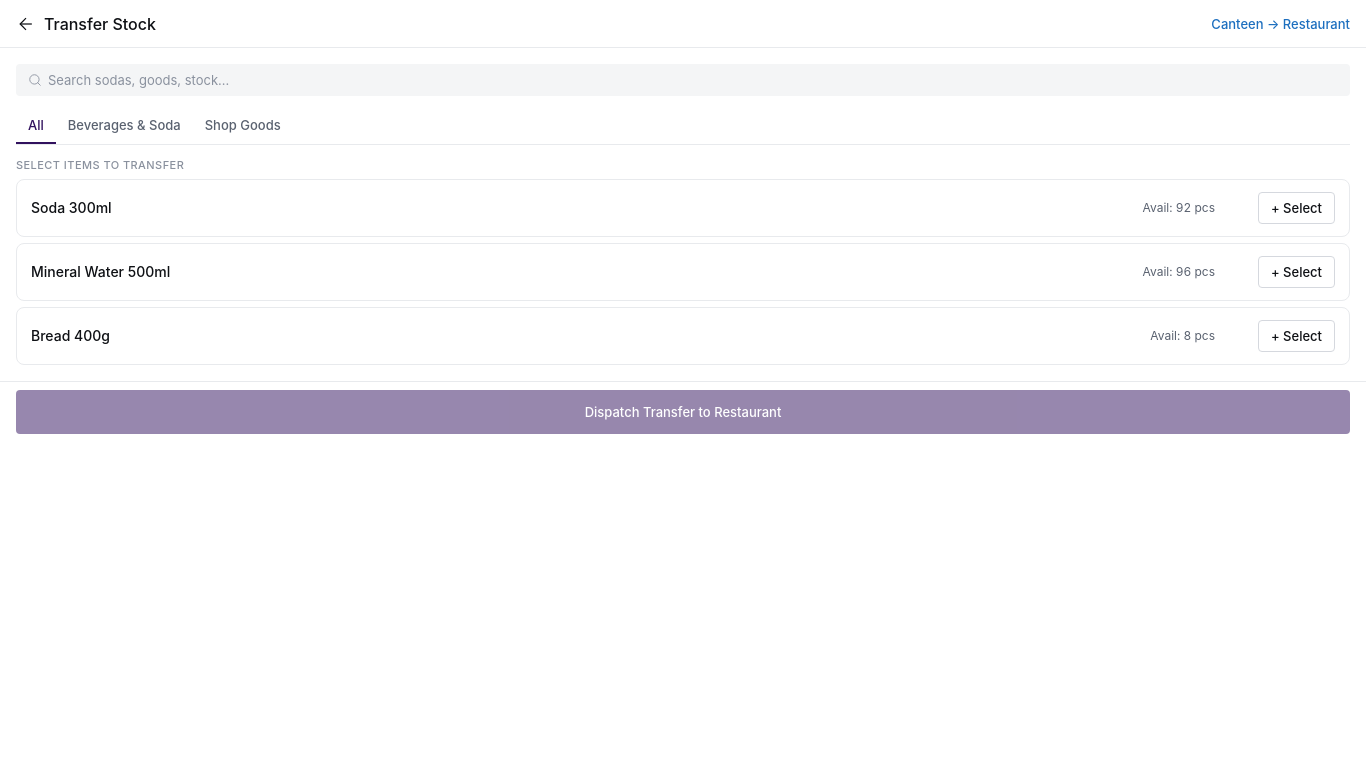
Canteen — Transfer Dispatch flow (Option-A picker) › populated: 2 rows → impact banner sums → ONE transferBatch POST { fromLocationId: canteen, toLocationId: restaurant } (auto-destination, ADR-67)
Expected: the text "Canteen → Restaurant" is shown, [1211,16,1350,32]
Expected: the element named "Soda 300ml," is shown, [16,179,1350,237]
Step 1. Click the tab "Beverages & Soda" → (124, 126), box [56,108,193,144]
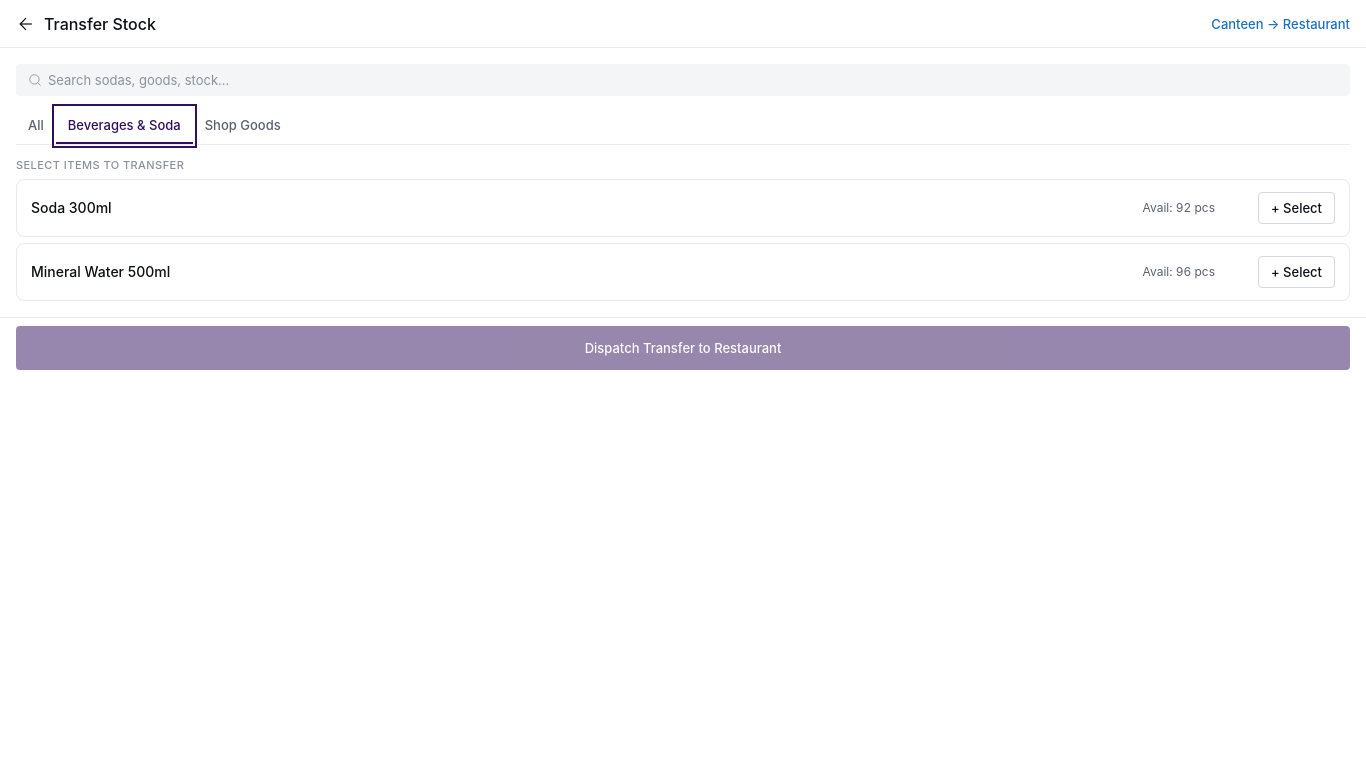
Step 2. Click the button "+ Select" next to "Avail: 96 pcs" → (1296, 272), box [1258,256,1335,288]
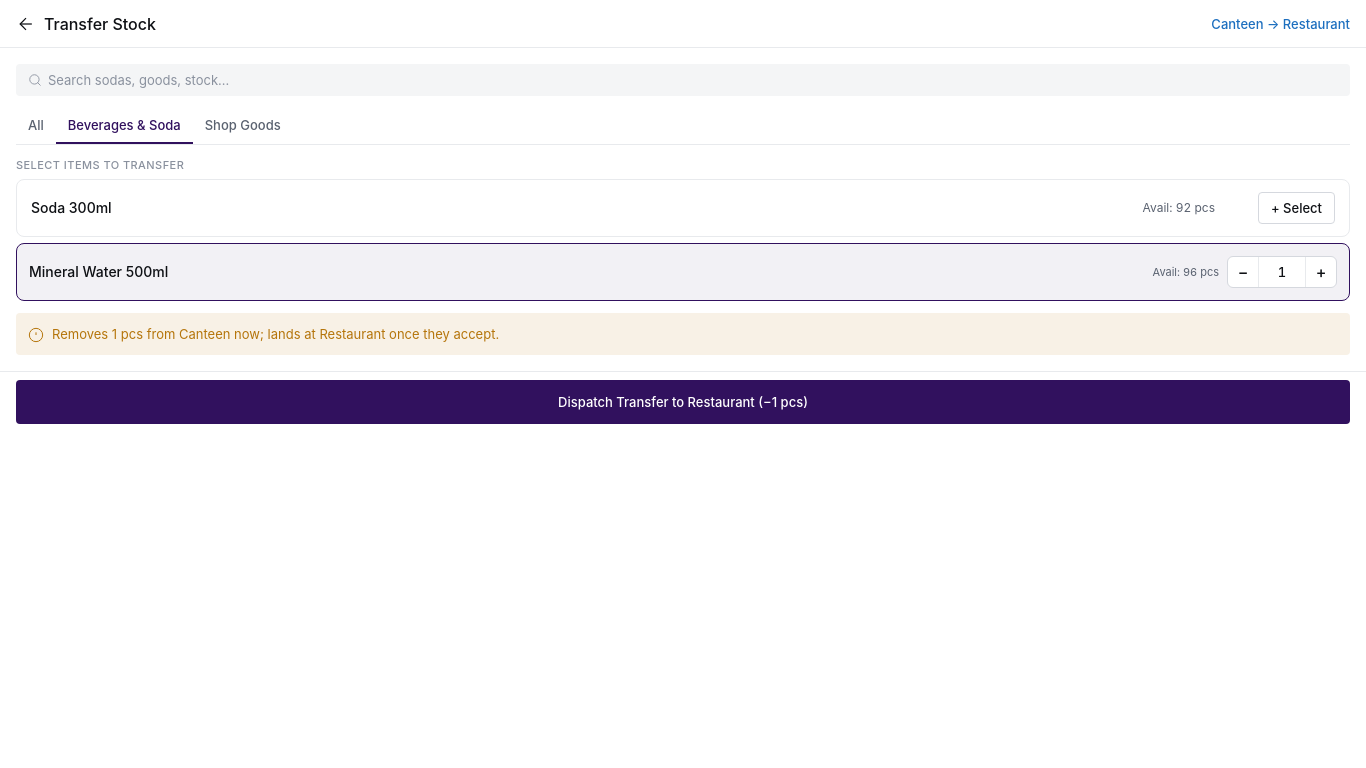
Step 3. Replace the text in the number field with "24" → (1282, 272), box [1274,264,1290,280]
Step 4. Press Tab
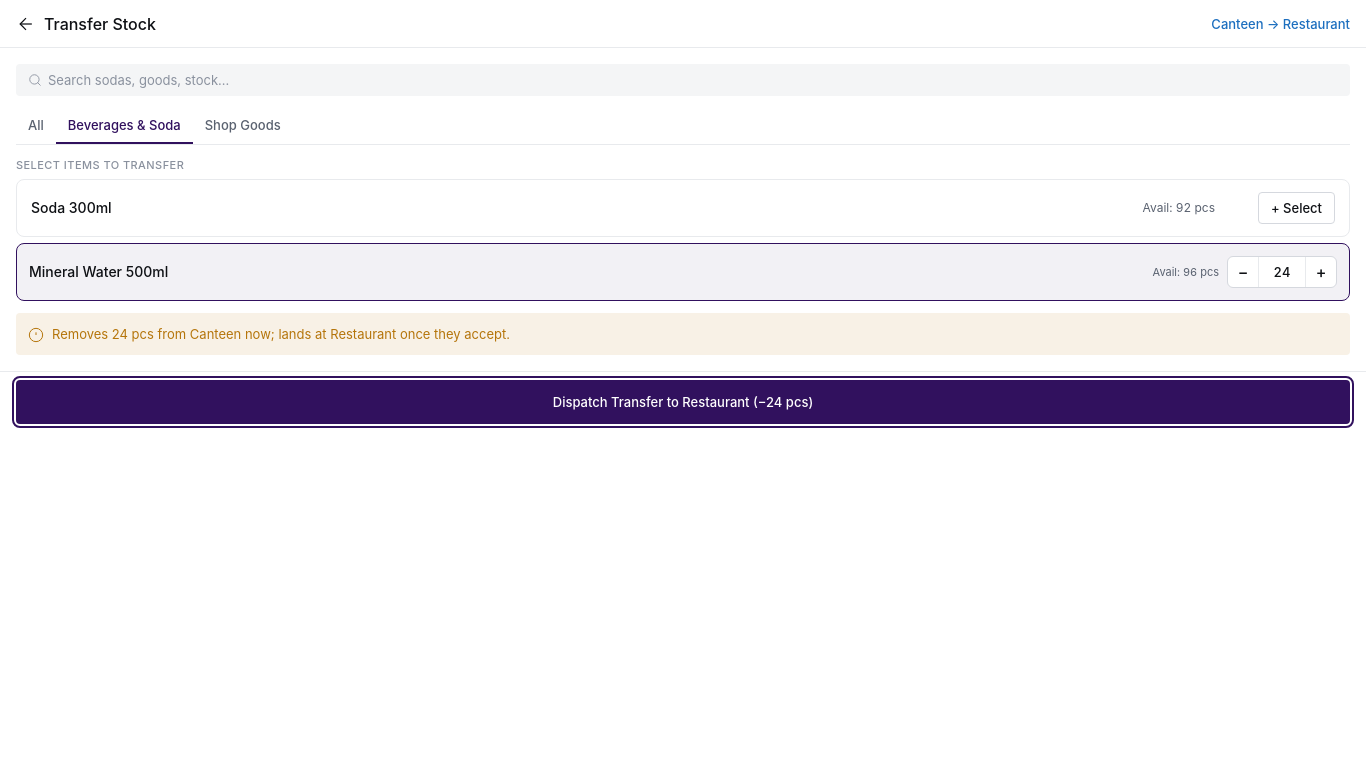
Step 5. Click the button "+ Select" → (1296, 208), box [1258,192,1335,224]
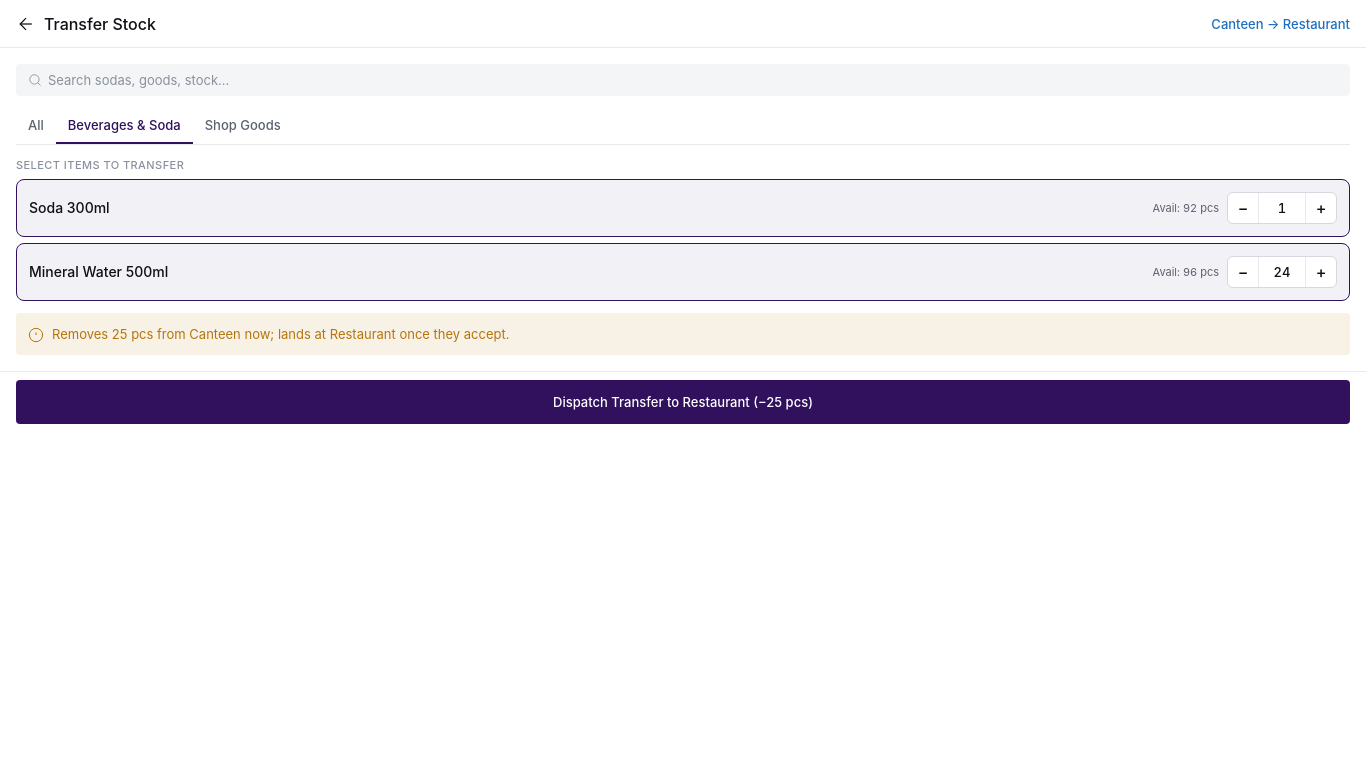
Step 6. Replace the text in the number field named "Soda 300ml quantity" with "12" → (1282, 208), box [1274,200,1290,216]
Step 7. Press Tab
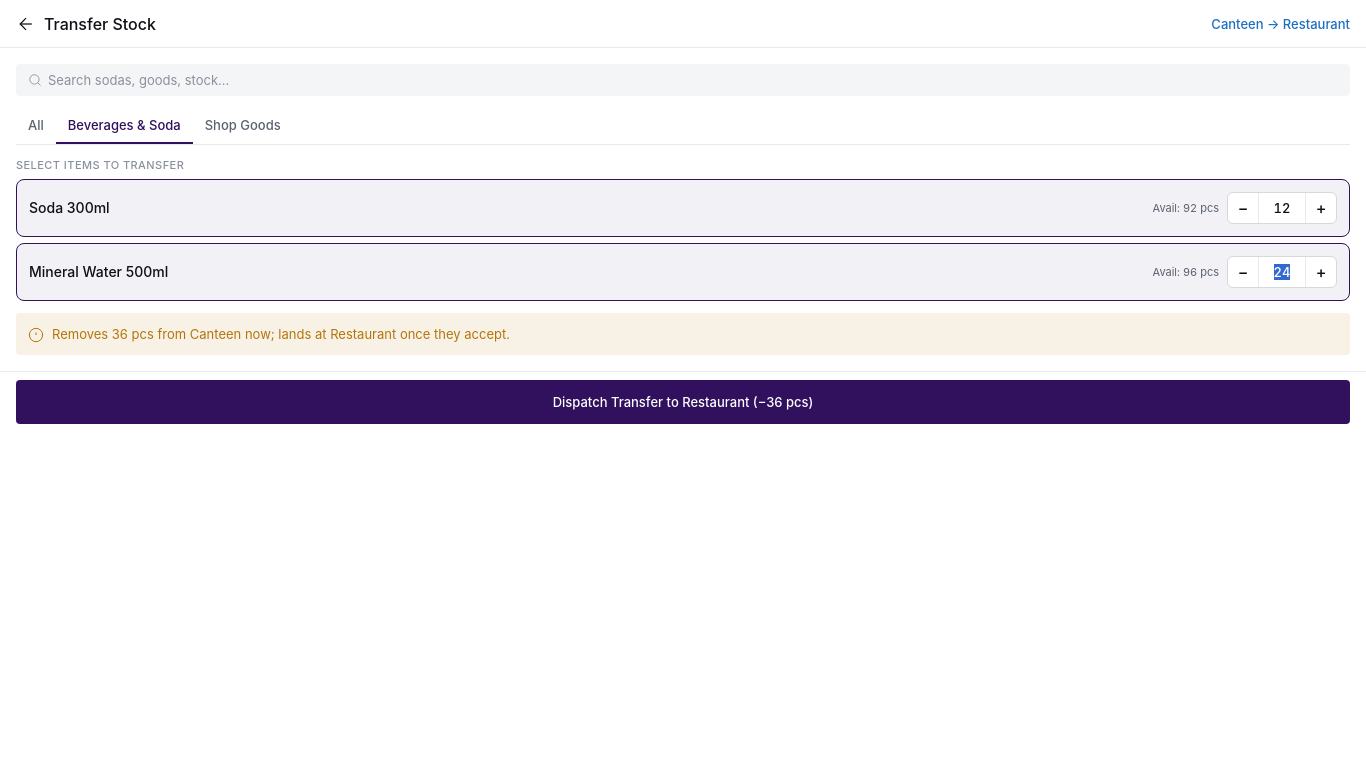
Expected: the text "Removes 36 pcs from Canteen now; lands at Restaurant once they accept." is shown, [52,325,510,343]
Step 8. Click the button "Dispatch Transfer to Restaurant (−36 pcs)" → (683, 402), box [16,380,1350,424]
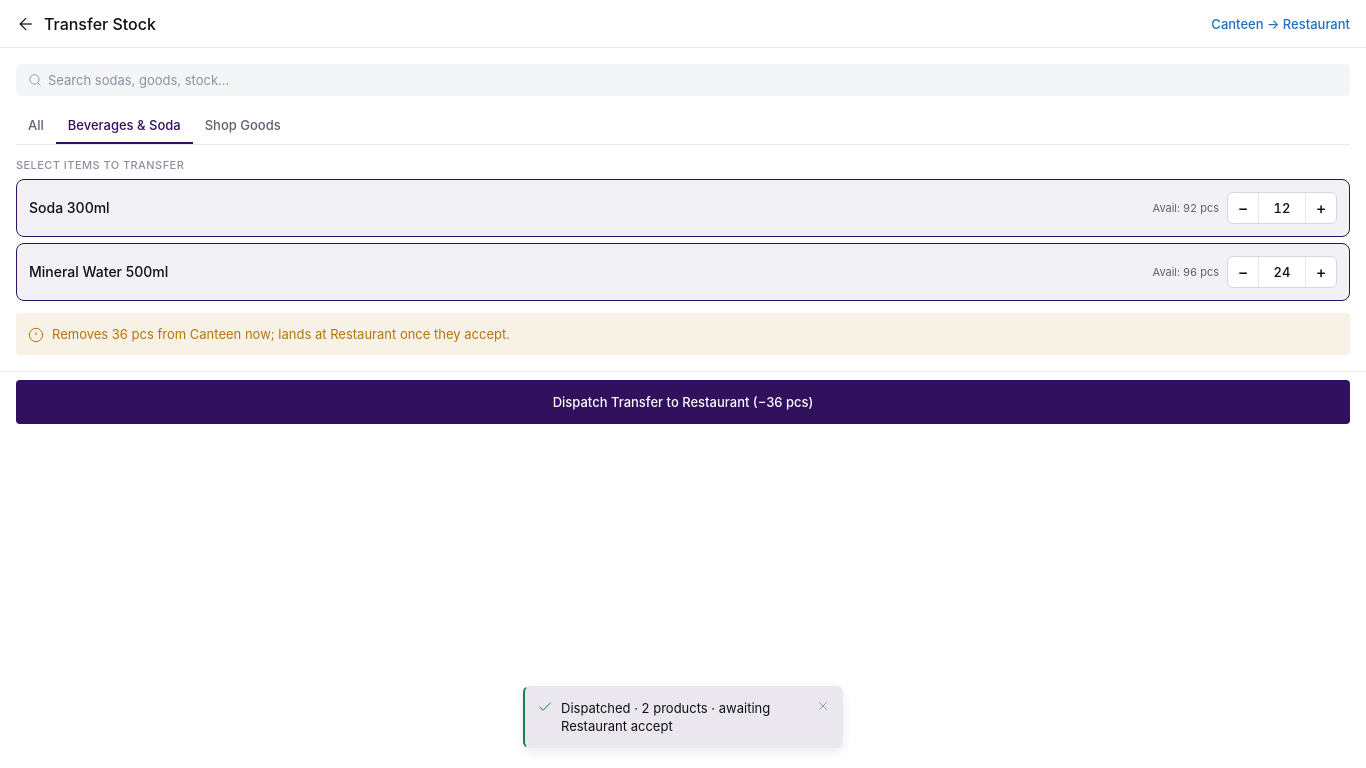
Expected: the text "Dispatched · 2 products · awaiting Restaurant accept" is shown, [561,700,770,734]
